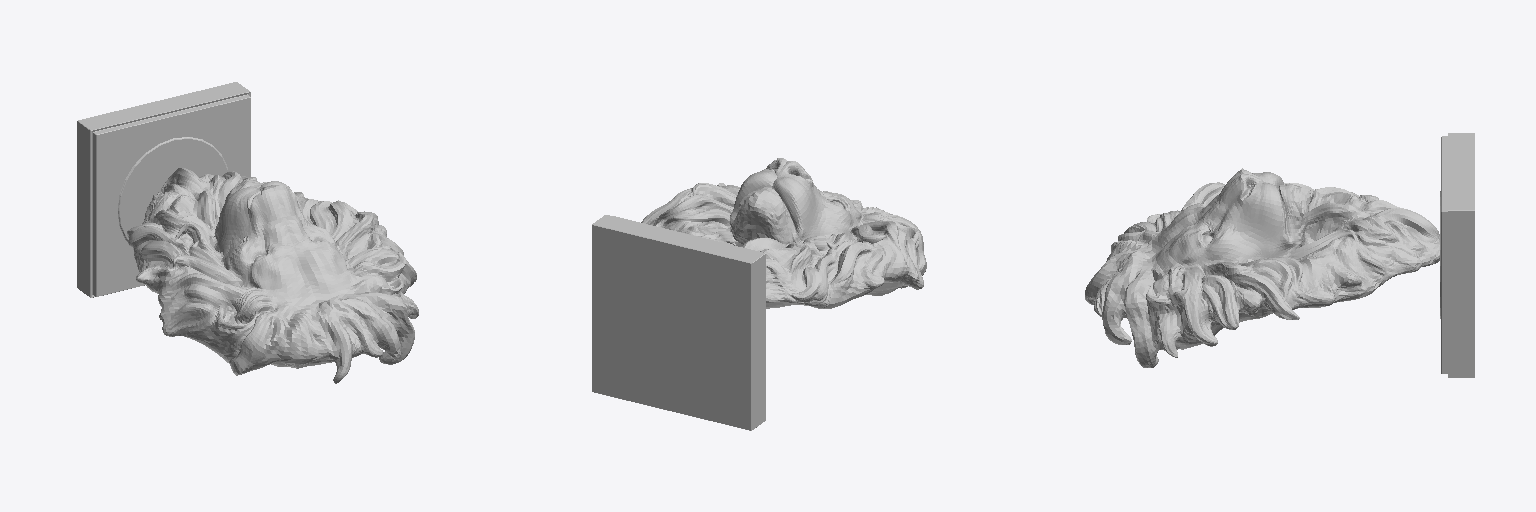
Rendered from lion_head_4k.obj.
3 views of the same model, side by side, from view 1: azimuth 30°, elevation 25°; view 2: azimuth 150°, elevation 25°; view 3: azimuth 270°, elevation 25° (orthographic).
Parts seen in each view (by area): view 1: lion_head; view 2: lion_head; view 3: lion_head.
Part boxes in pixels (bbox=[...]): lion_head: bbox=[77, 82, 418, 383]; lion_head: bbox=[592, 158, 926, 430]; lion_head: bbox=[1085, 133, 1474, 377].
Bounding box in the file's own units: 0.3208 × 0.2066 × 0.4364.